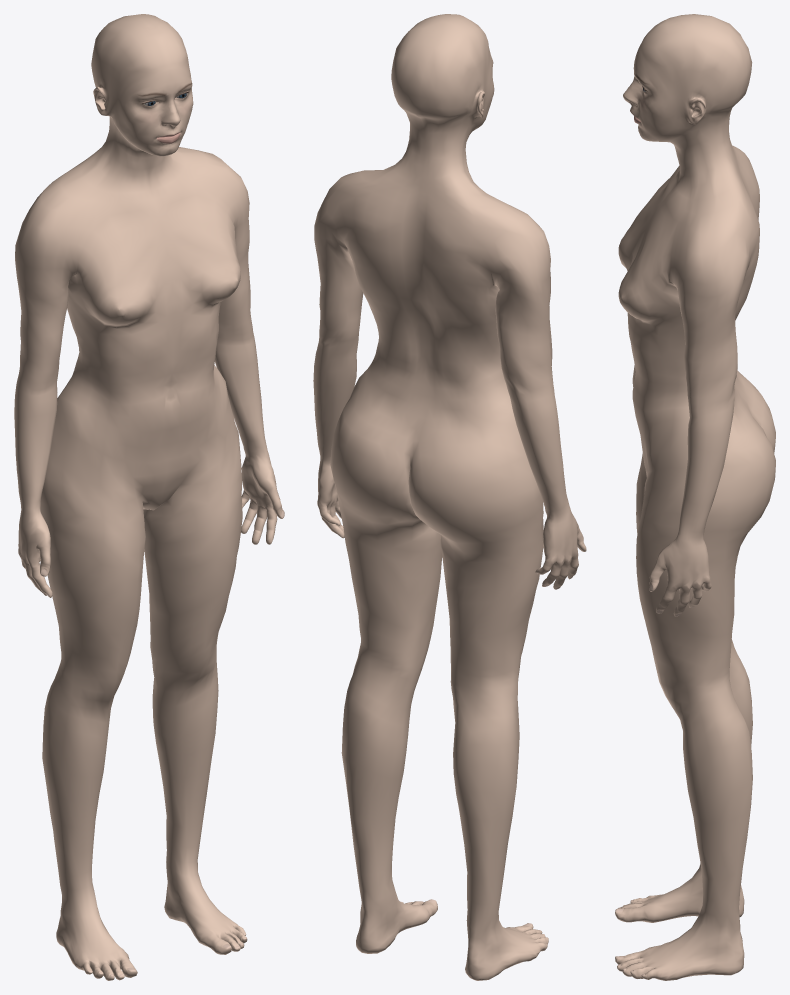
File: female_A_with_lashes.glb
3 renders of one model, left to right at view 1: azimuth 30°, elevation 25°; view 2: azimuth 150°, elevation 25°; view 3: azimuth 270°, elevation 25°, orthographic.
Parts seen in each view (by area): view 1: basemesh_female_body; view 2: basemesh_female_body; view 3: basemesh_female_body.
Boxes of the visible parts, x1,y1,x2,y2 form: basemesh_female_body: [14, 14, 284, 980]; basemesh_female_body: [313, 14, 586, 980]; basemesh_female_body: [615, 14, 775, 980].
Bounding box in the file's own units: 0.4716 × 1.67 × 0.2637.
3 materials, 2 textured.
